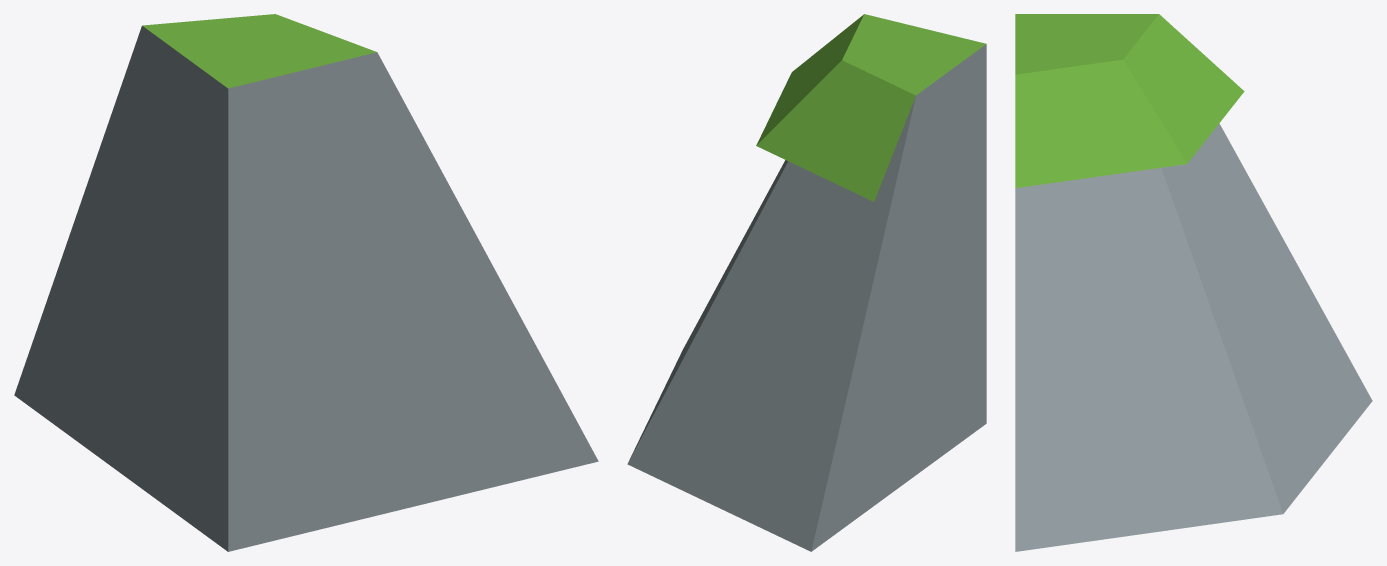
The model's file is cliff_halfCorner_stone.glb.
The picture shows the model from 3 angles, left to right: view 1: azimuth 30°, elevation 25°; view 2: azimuth 150°, elevation 25°; view 3: azimuth 270°, elevation 25°; orthographic projection. The views are drawn at different scales.
Visible parts, largest first — view 1: cliff_halfCorner_stone; view 2: cliff_halfCorner_stone; view 3: cliff_halfCorner_stone.
Part boxes in pixels (left/top/right/bottom): cliff_halfCorner_stone: left=14, top=14, right=598, bottom=551; cliff_halfCorner_stone: left=627, top=14, right=986, bottom=551; cliff_halfCorner_stone: left=1015, top=14, right=1372, bottom=551.
Size of the model in its own units: 0.4185 by 0.5 by 0.4185.
